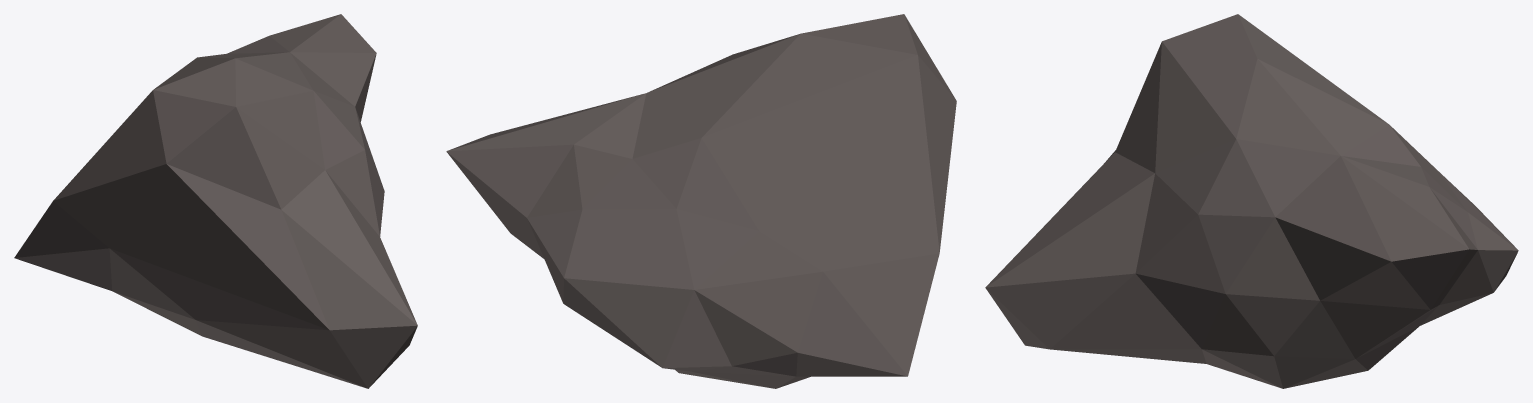
Rendered from Rock 3.fbx.
The picture shows the model from 3 angles, left to right: view 1: azimuth 30°, elevation 25°; view 2: azimuth 150°, elevation 25°; view 3: azimuth 270°, elevation 25°; orthographic projection. The views are drawn at different scales.
Visible parts, largest first — view 1: Rock 3; view 2: Rock 3; view 3: Rock 3.
Boxes of the visible parts, x1,y1,x2,y2 form: Rock 3: (14,14,417,388); Rock 3: (446,14,956,388); Rock 3: (985,14,1518,388).
Size of the model in its own units: 202 by 152 by 241.
